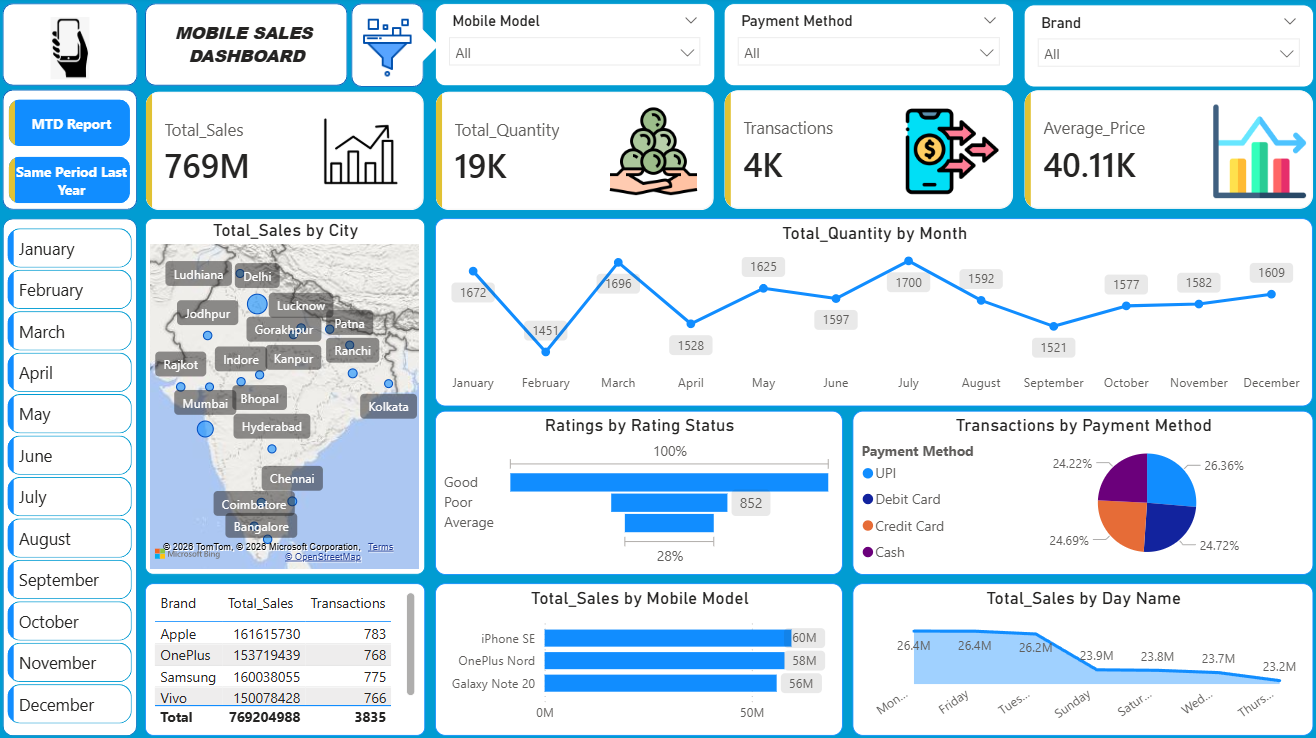

This screenshot's page, from the dashboard's own definition file:
{"tool":"powerbi","page":{"name":"Dashboard","canvas":[1280,720],"ordinal":0},"visuals":[{"type":"shape","box":[7.2,6,130.3,79.6],"z":0},{"type":"shape","box":[144.8,6,195.4,79.6],"z":1000},{"type":"shape","box":[343.8,6,70,80.8],"z":2000},{"type":"shape","box":[7.5,88.8,130,116.2],"z":3000},{"type":"shape","box":[7.5,213.8,130,500],"z":4000},{"type":"advancedSlicerVisual","fields":{"Values":["Custom_Calender.Date.Variation.Date Hierarchy.Month"]},"box":[7.5,213.8,130,500],"z":5000},{"type":"cardVisual","fields":{"Data":["Mobile_Sales_Data.Total_Sales"]},"box":[145,90,270,116.2],"z":6000},{"type":"cardVisual","fields":{"Data":["Mobile_Sales_Data.Total_Quantity"]},"box":[425,90,270,116.2],"z":7000},{"type":"cardVisual","fields":{"Data":["Mobile_Sales_Data.Average_Price"]},"box":[992.5,88.8,280,116.2],"z":8000},{"type":"cardVisual","fields":{"Data":["Mobile_Sales_Data.Transactions"]},"box":[703.8,88.8,280,116.2],"z":9000},{"type":"image","box":[293.8,103.8,120,90],"z":10000},{"type":"image","box":[575,103.8,120,90],"z":11000},{"type":"image","box":[863.8,103.8,120,90],"z":12000},{"type":"image","box":[1160,103.8,120,90],"z":13000},{"type":"textbox","box":[144.8,6,195.4,79.6],"z":14000},{"type":"image","box":[7.2,19.3,130.3,60.3],"z":15000},{"type":"slicer","fields":{"Values":["Mobile_Sales_Data.Mobile Model"]},"box":[425,6.2,270,80],"z":16000},{"type":"slicer","fields":{"Values":["Mobile_Sales_Data.Brand"]},"box":[992.5,7.5,280,80],"z":17000},{"type":"slicer","fields":{"Values":["Mobile_Sales_Data.Payment Method"]},"box":[703.8,6.2,280,80],"z":18000},{"type":"shape","box":[353.8,22.5,75,47.5],"z":19000},{"type":"image","box":[349.9,12.1,57.9,73.6],"z":20000},{"type":"map","fields":{"Category":["Mobile_Sales_Data.City"],"Size":["Mobile_Sales_Data.Total_Sales"]},"box":[145,213.8,270,343.8],"z":21000},{"type":"lineChart","fields":{"Category":["Custom_Calender.Date.Variation.Date Hierarchy.Month"],"Y":["Mobile_Sales_Data.Total_Quantity"]},"box":[425,213.8,847.5,181.2],"z":22000},{"type":"funnel","title":"Ratings by Rating Status","fields":{"Y":["CountNonNull(Mobile_Sales_Data.Customer Ratings)"],"Category":["Mobile_Sales_Data.Rating Status"]},"box":[425,398.8,393.8,158.8],"z":23000},{"type":"pieChart","fields":{"Y":["Mobile_Sales_Data.Transactions"],"Category":["Mobile_Sales_Data.Payment Method"]},"box":[827.5,398.8,445,158.8],"z":24000},{"type":"clusteredBarChart","fields":{"Y":["Mobile_Sales_Data.Total_Sales"],"Category":["Mobile_Sales_Data.Mobile Model"]},"box":[425,566.2,393.8,147.5],"z":25000},{"type":"areaChart","fields":{"Y":["Mobile_Sales_Data.Total_Sales"],"Category":["Custom_Calender.Day Name"]},"box":[827.5,566.2,445,147.5],"z":26000},{"type":"tableEx","fields":{"Values":["Mobile_Sales_Data.Brand","Mobile_Sales_Data.Total_Sales","Mobile_Sales_Data.Transactions"]},"box":[145,566.2,270,147.5],"z":27000},{"type":"pageNavigator","box":[13.8,98.8,117.5,101.2],"z":29000}]}

Visuals, with their boxes in screenshot pixels (x1, y1, x2, y2), scaled from the page's 1280x720 canvas onto the 1316x738 screenshot:
shape: (7, 6, 141, 88)
shape: (149, 6, 350, 88)
shape: (353, 6, 425, 89)
shape: (8, 91, 141, 210)
shape: (8, 219, 141, 732)
advancedSlicerVisual - Custom_Calender.Date.Variation.Date Hierarchy.Month: (8, 219, 141, 732)
cardVisual - Mobile_Sales_Data.Total_Sales: (149, 92, 427, 211)
cardVisual - Mobile_Sales_Data.Total_Quantity: (437, 92, 715, 211)
cardVisual - Mobile_Sales_Data.Average_Price: (1020, 91, 1308, 210)
cardVisual - Mobile_Sales_Data.Transactions: (724, 91, 1011, 210)
image: (302, 106, 425, 199)
image: (591, 106, 715, 199)
image: (888, 106, 1011, 199)
image: (1193, 106, 1315, 199)
textbox: (149, 6, 350, 88)
image: (7, 20, 141, 82)
slicer - Mobile_Sales_Data.Mobile Model: (437, 6, 715, 88)
slicer - Mobile_Sales_Data.Brand: (1020, 8, 1308, 90)
slicer - Mobile_Sales_Data.Payment Method: (724, 6, 1011, 88)
shape: (364, 23, 441, 72)
image: (360, 12, 419, 88)
map - Mobile_Sales_Data.City x Mobile_Sales_Data.Total_Sales: (149, 219, 427, 572)
lineChart - Custom_Calender.Date.Variation.Date Hierarchy.Month x Mobile_Sales_Data.Total_Quantity: (437, 219, 1308, 405)
"Ratings by Rating Status" funnel: (437, 409, 842, 572)
pieChart - Mobile_Sales_Data.Transactions x Mobile_Sales_Data.Payment Method: (851, 409, 1308, 572)
clusteredBarChart - Mobile_Sales_Data.Total_Sales x Mobile_Sales_Data.Mobile Model: (437, 580, 842, 732)
areaChart - Mobile_Sales_Data.Total_Sales x Custom_Calender.Day Name: (851, 580, 1308, 732)
tableEx - Mobile_Sales_Data.Brand x Mobile_Sales_Data.Total_Sales: (149, 580, 427, 732)
pageNavigator: (14, 101, 135, 205)
